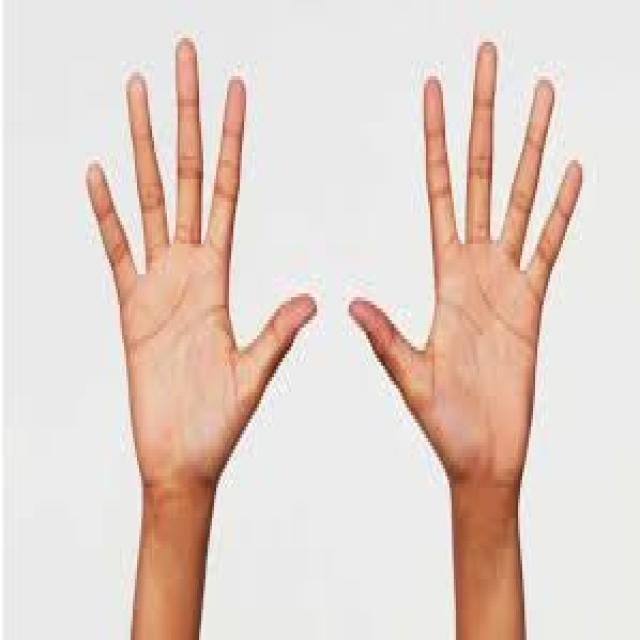Hand: (79, 29, 323, 502), (345, 32, 588, 504)
